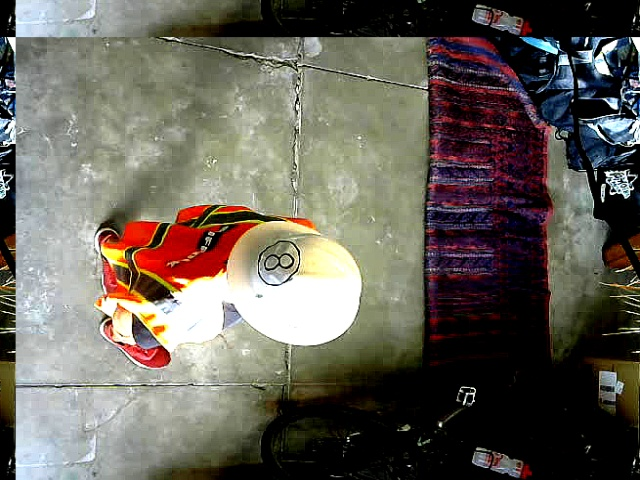eight: (256, 239, 301, 285)
